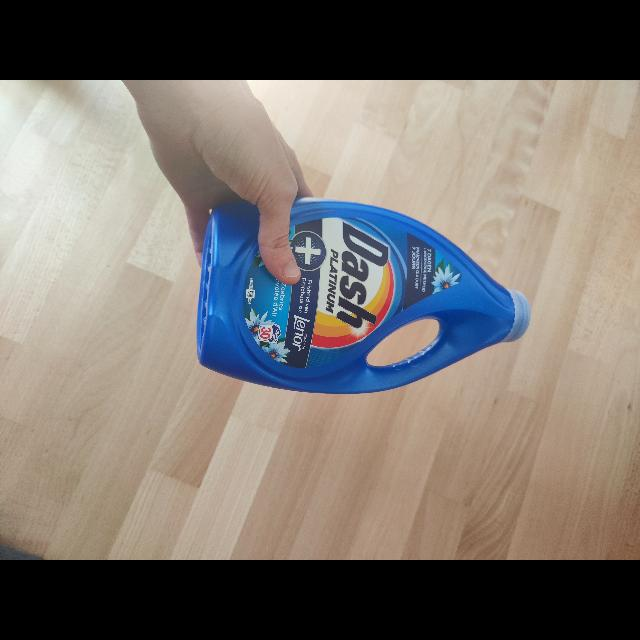Plastic: (197, 194, 533, 396)
